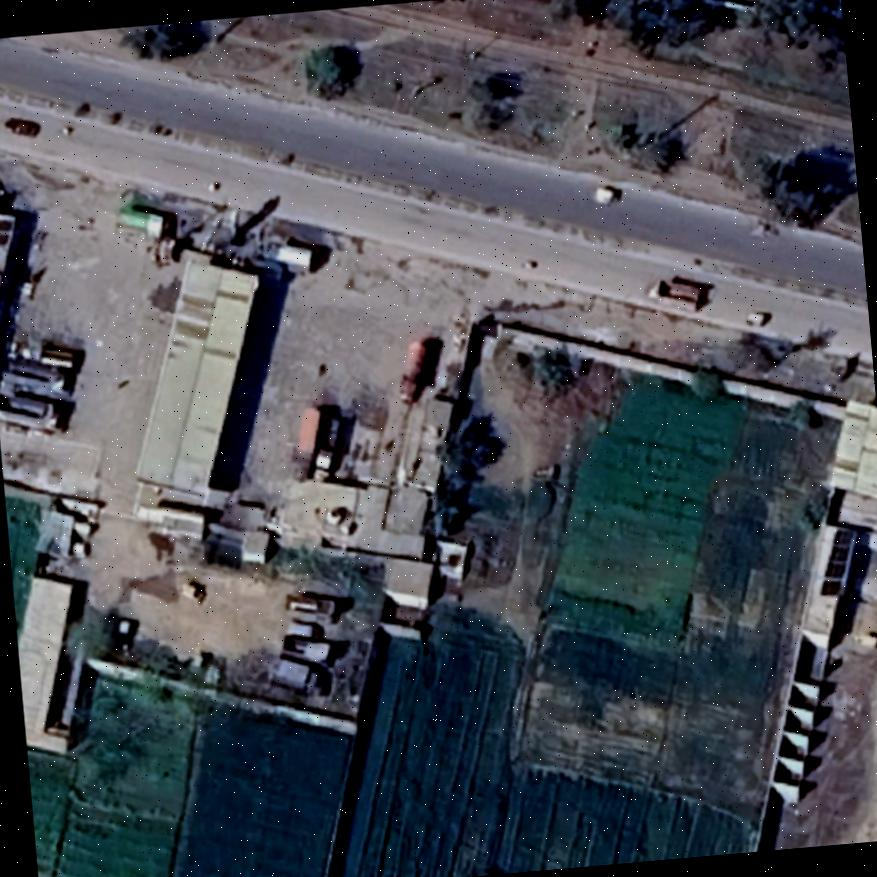Solarpanel: (816, 522, 855, 599)
